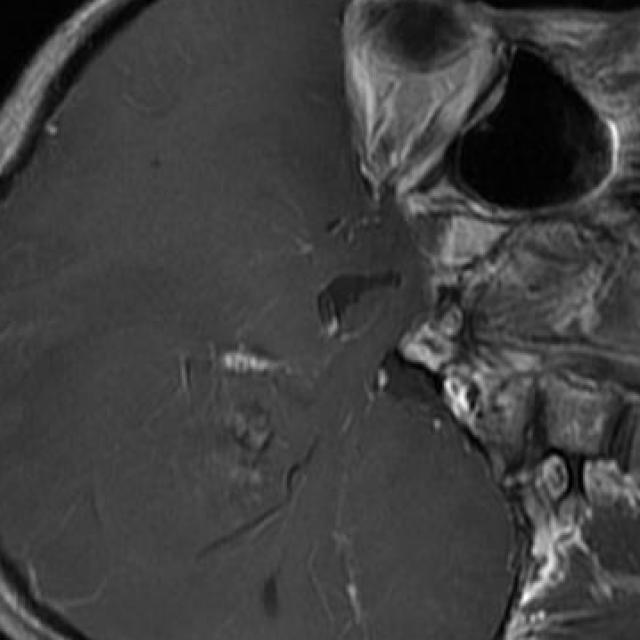glioma: (189, 342, 303, 490)
